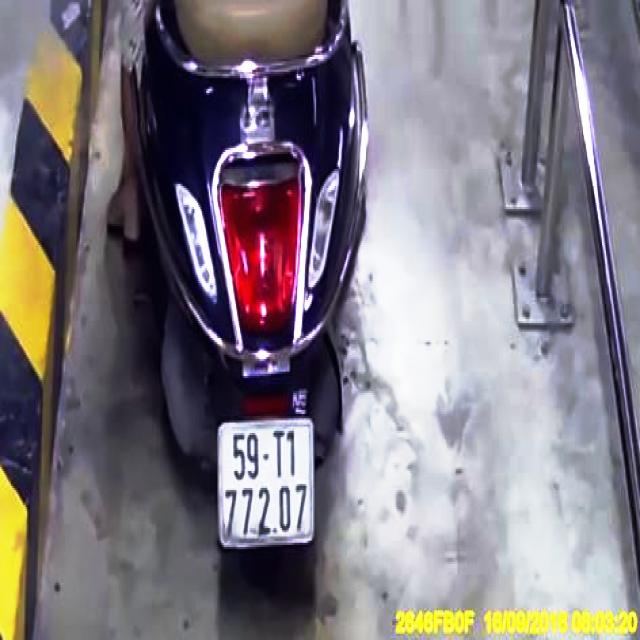license_plate: (220, 421, 315, 548)
